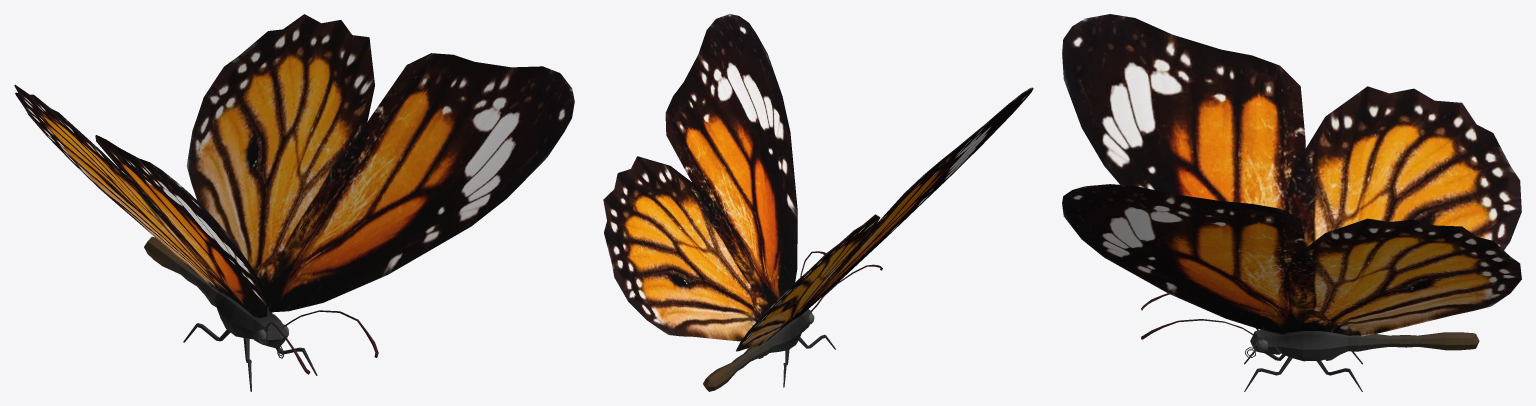
The model's file is e9NAQQrCbLu.glb.
3 views of the same model, side by side, from view 1: azimuth 30°, elevation 25°; view 2: azimuth 150°, elevation 25°; view 3: azimuth 270°, elevation 25° (orthographic). The views are drawn at different scales.
Parts seen in each view (by area): view 1: Node; view 2: Node; view 3: Node.
Boxes of the visible parts, <box> form: Node: <box>14,14,574,391</box>; Node: <box>603,14,1033,391</box>; Node: <box>1062,14,1521,391</box>.
Bounding box in the file's own units: 1.31 × 1 × 1.49.
4 materials, 1 textured.
